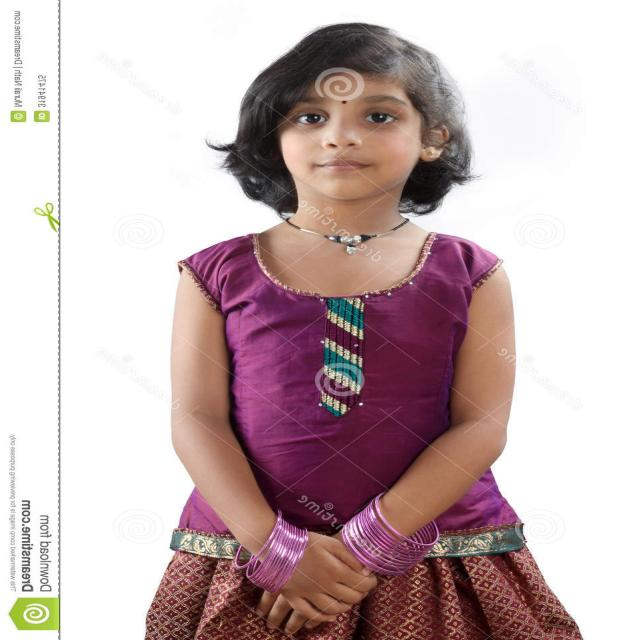child: (124, 15, 552, 640)
